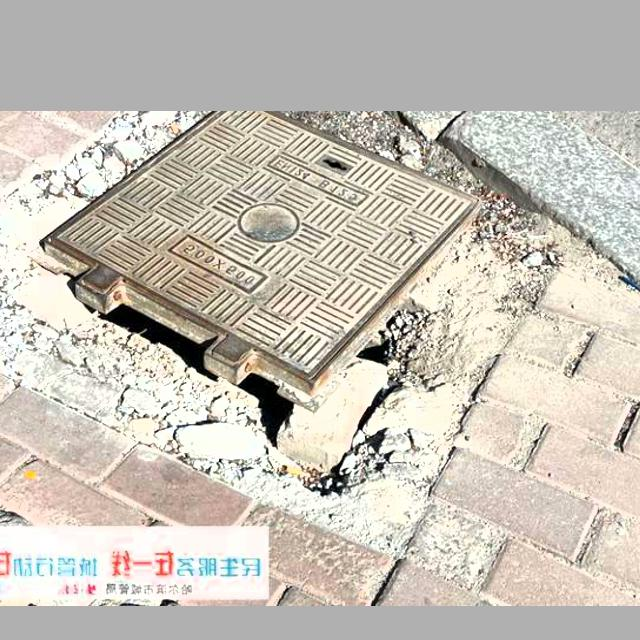circle: (0, 119, 557, 505)
